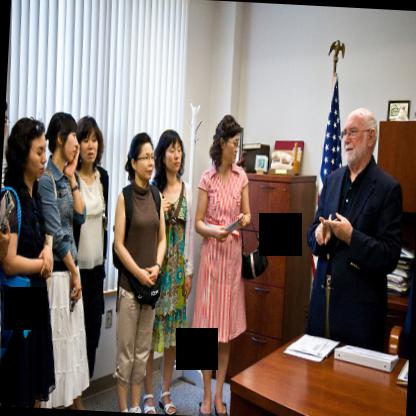backpack: (112, 184, 160, 270)
handbag: (0, 273, 27, 357), (240, 213, 268, 279), (0, 184, 21, 235), (135, 275, 161, 309), (43, 168, 56, 200)
